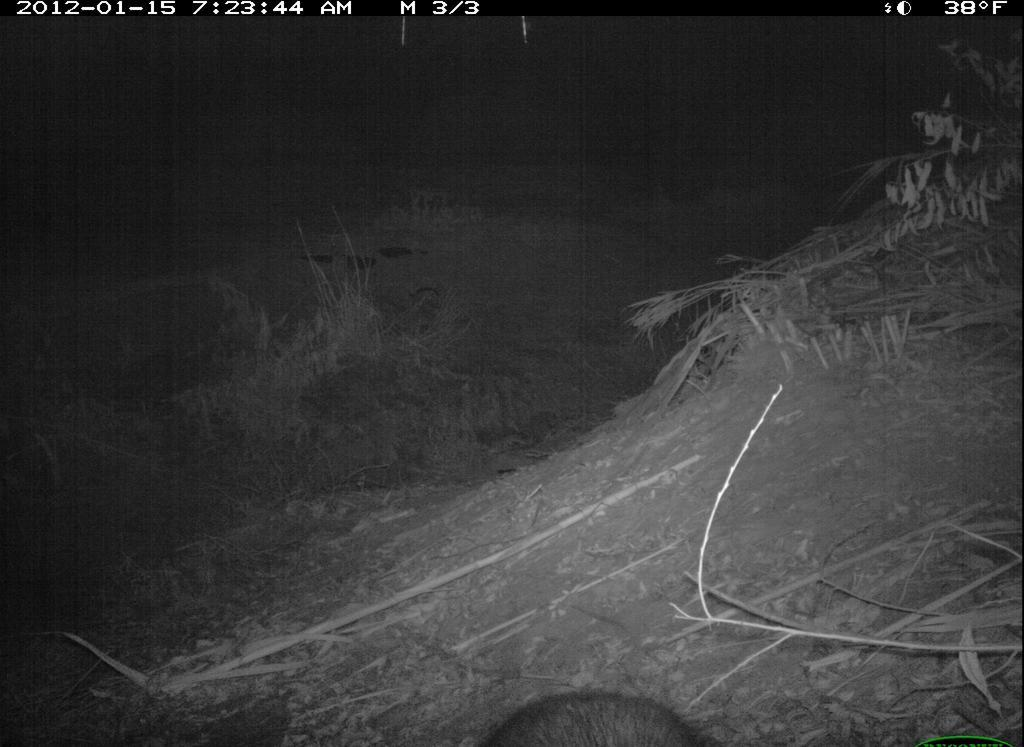raccoon: (472, 679, 725, 745)
